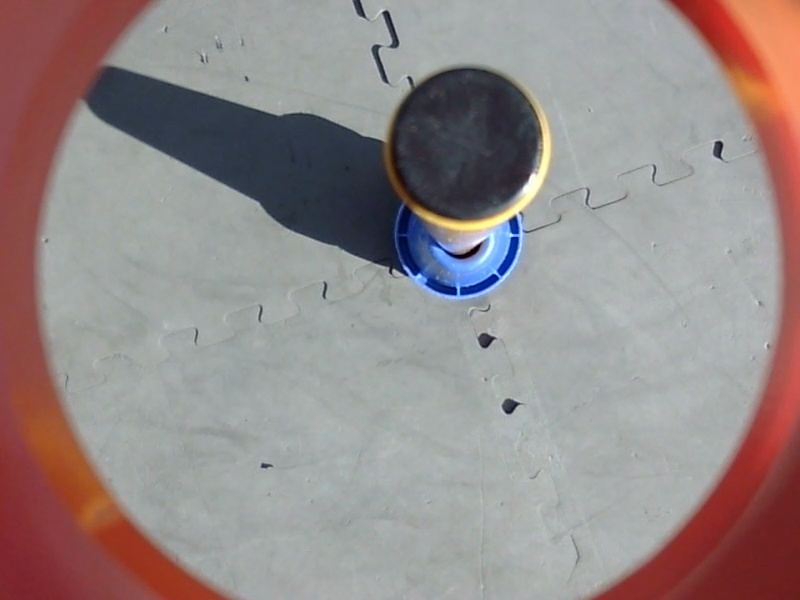tip: (378, 60, 557, 236)
